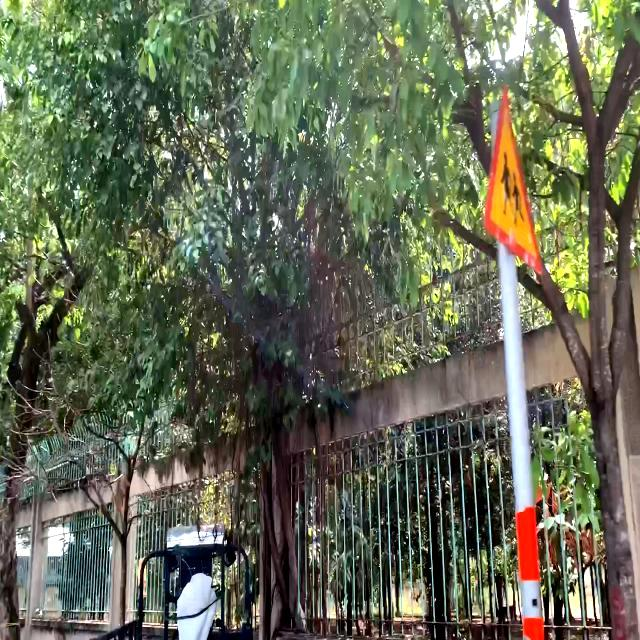Tre em: (482, 74, 544, 289)
